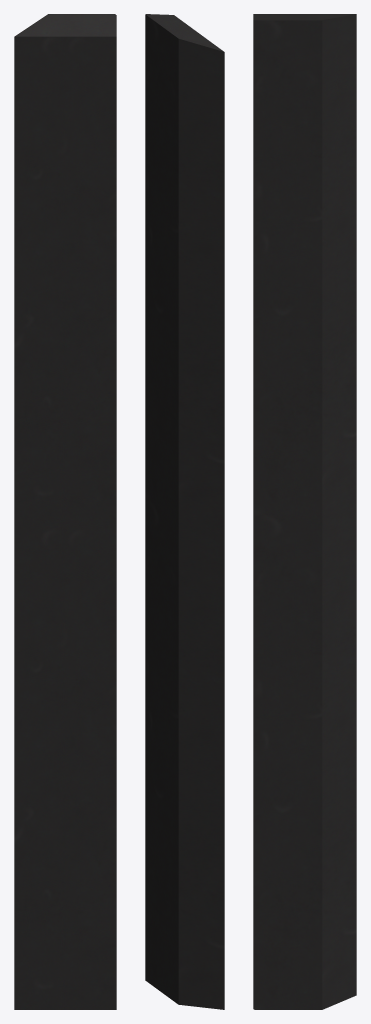
The model's file is A13.1.1 H.WALL. PNL 4748 ICR.D.fbx.
The picture shows the model from 3 angles, left to right: view 1: azimuth 90°, elevation 25°; view 2: azimuth 210°, elevation 25°; view 3: azimuth 270°, elevation 25°; orthographic projection. The views are drawn at different scales.
Visible parts, largest first — view 1: Model; view 2: Model; view 3: Model.
Part boxes in pixels (bbox=[...]): Model: bbox=[14, 14, 116, 1009]; Model: bbox=[145, 14, 224, 1009]; Model: bbox=[253, 14, 356, 1009].
Size of the model in its own units: 150 by 4748 by 450.
